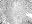person: (24, 13, 31, 18)
